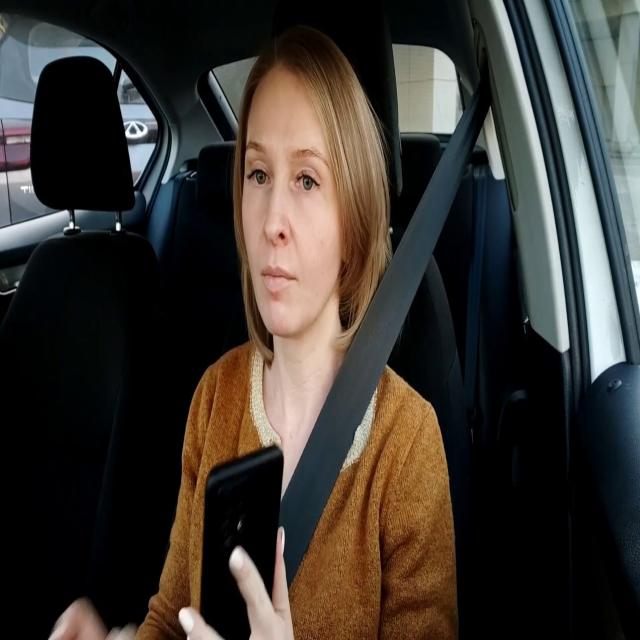phone: (198, 444, 285, 640)
